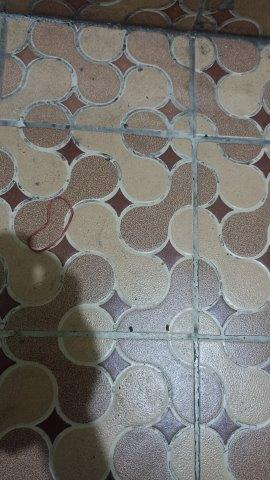karet: (28, 196, 74, 253)
